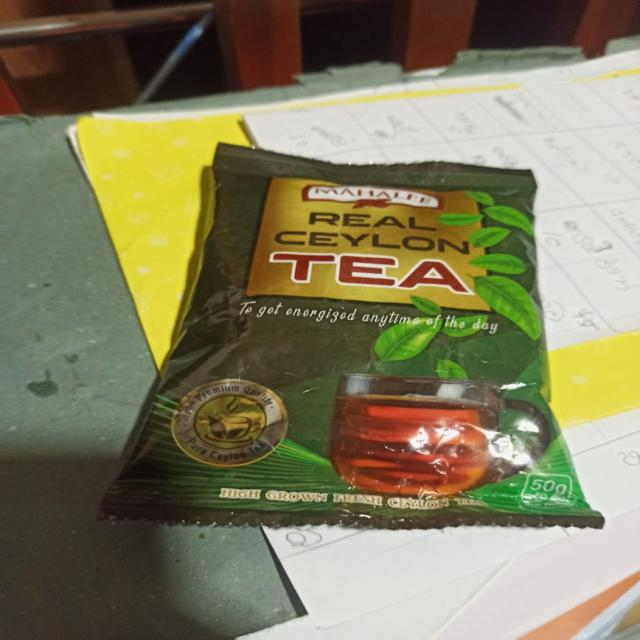Viva Malt: (133, 123, 560, 576)
